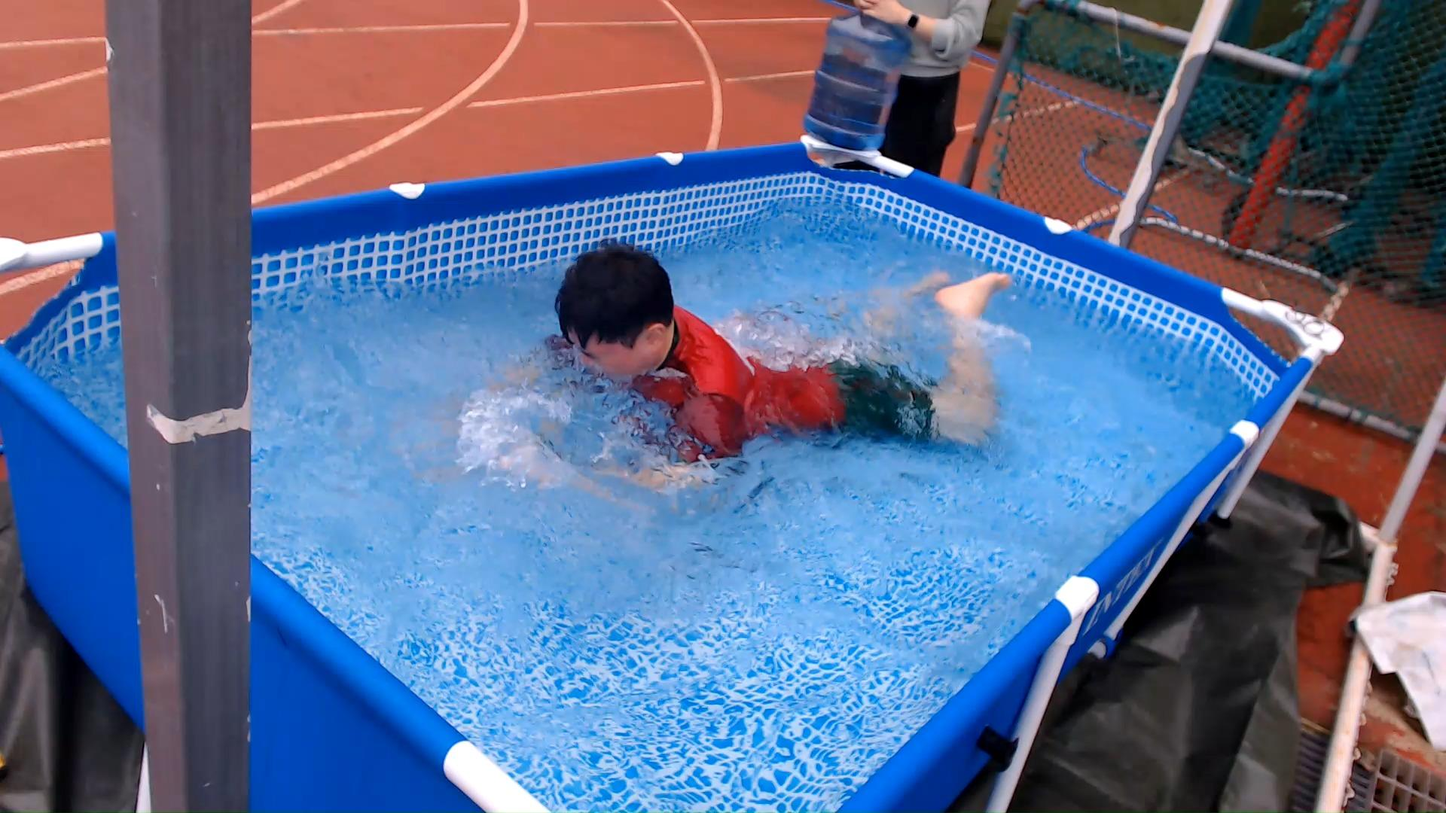Drowning: (444, 210, 1110, 507)
